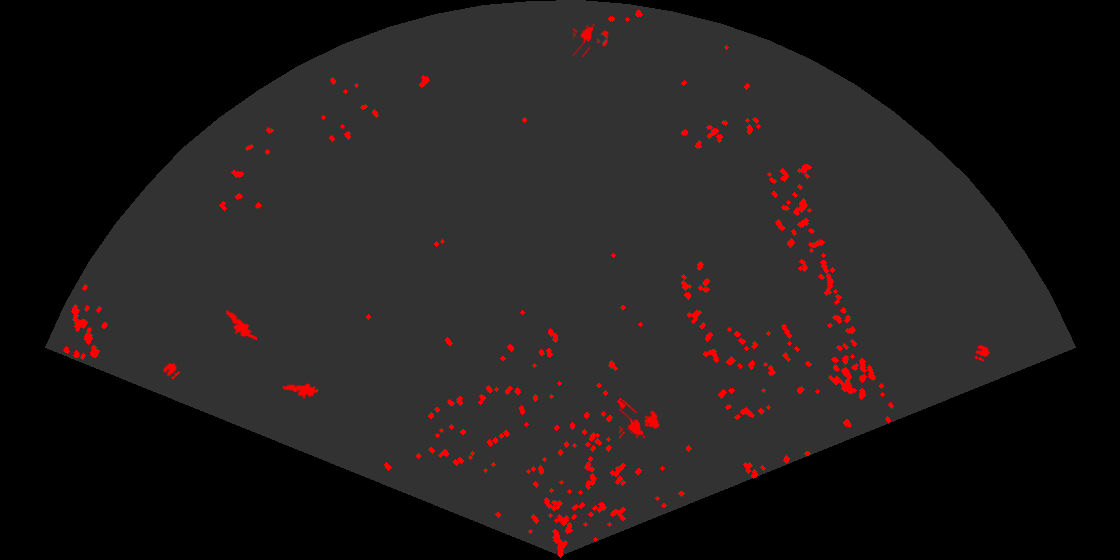ball: (162, 361, 182, 381), (973, 343, 991, 363)
cage: (619, 400, 661, 441), (573, 22, 610, 57)
frogman: (218, 308, 257, 342), (280, 382, 318, 401)
